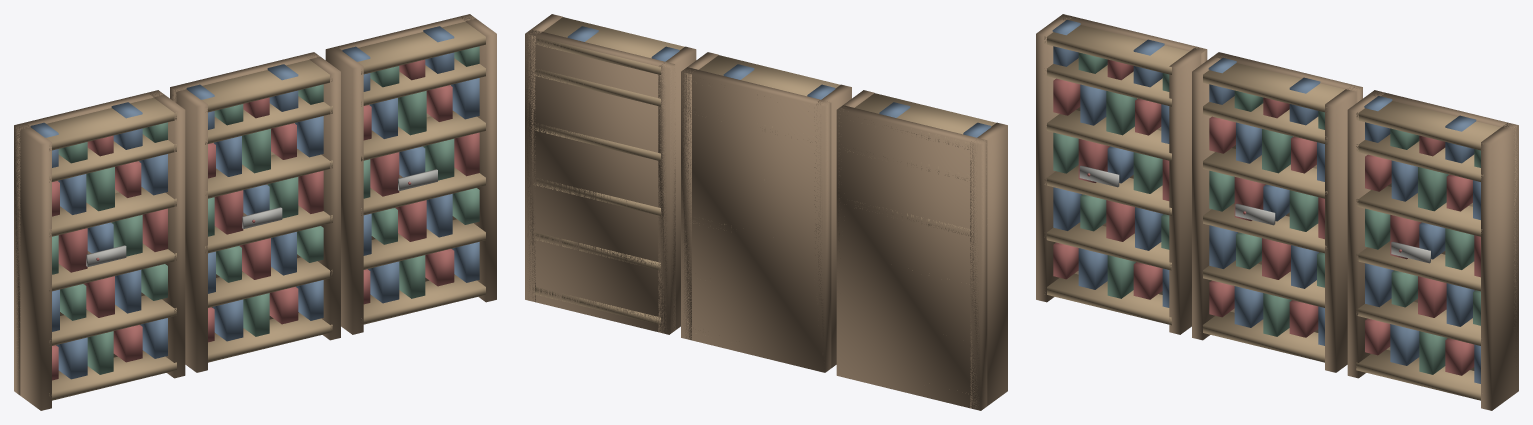
The model's file is bookcase_bay__cluster.glb.
3 renders of one model, left to right at view 1: azimuth 30°, elevation 25°; view 2: azimuth 150°, elevation 25°; view 3: azimuth 330°, elevation 25°, orthographic.
Parts seen in each view (by area): view 1: world; view 2: world; view 3: world.
Part boxes in pixels (left/top/right/bottom): world: left=14, top=14, right=496, bottom=410; world: left=525, top=14, right=1007, bottom=410; world: left=1036, top=14, right=1518, bottom=410.
Bounding box in the file's own units: 3.32 × 1.86 × 0.371.
